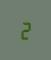two: (19, 19, 29, 40)
